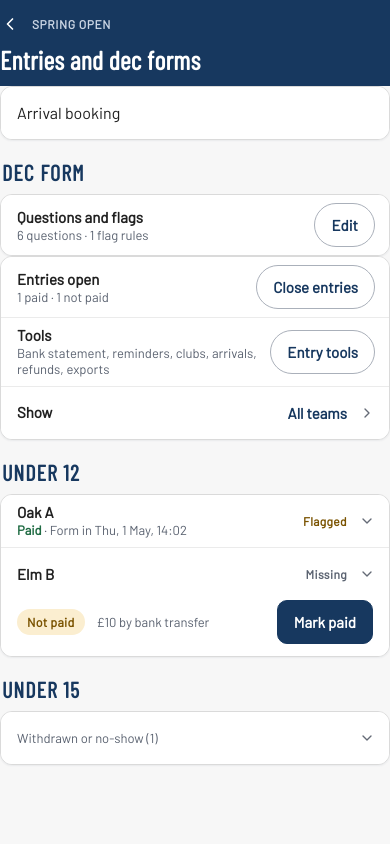
EntriesPage › shows entries grouped by section, closed up, with payment, form and status
Expected: the heading "Under 12" is shown, x1=2 y1=459 x2=80 y2=485
Expected: the button "Oak A Paid · Form in Thu, 1 May, 14:02 Flagged" is shown, x1=1 y1=495 x2=389 y2=547
What coordinates should you click on to do the following:
click the button "Withdrawn or no-show (1)"
I would click on:
 (87, 738)
Its box is x1=1 y1=712 x2=389 y2=764.
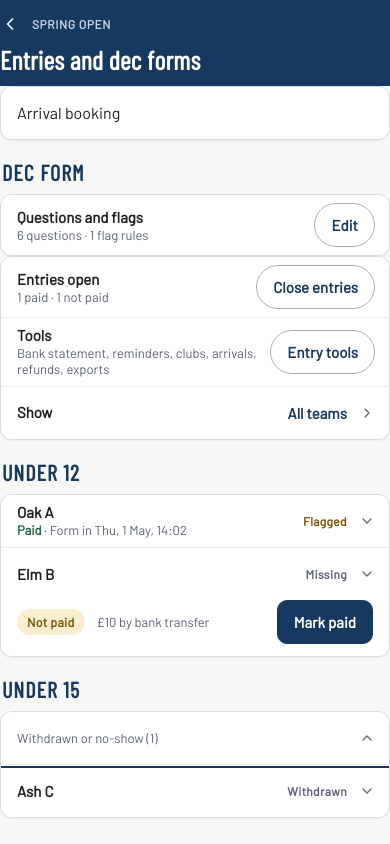
Expected: the text "Entries open" is shown, x1=17 y1=270 x2=99 y2=288
Now the button "Ash C Withdrawn" is shown, box x1=1 y1=765 x2=389 y2=817
